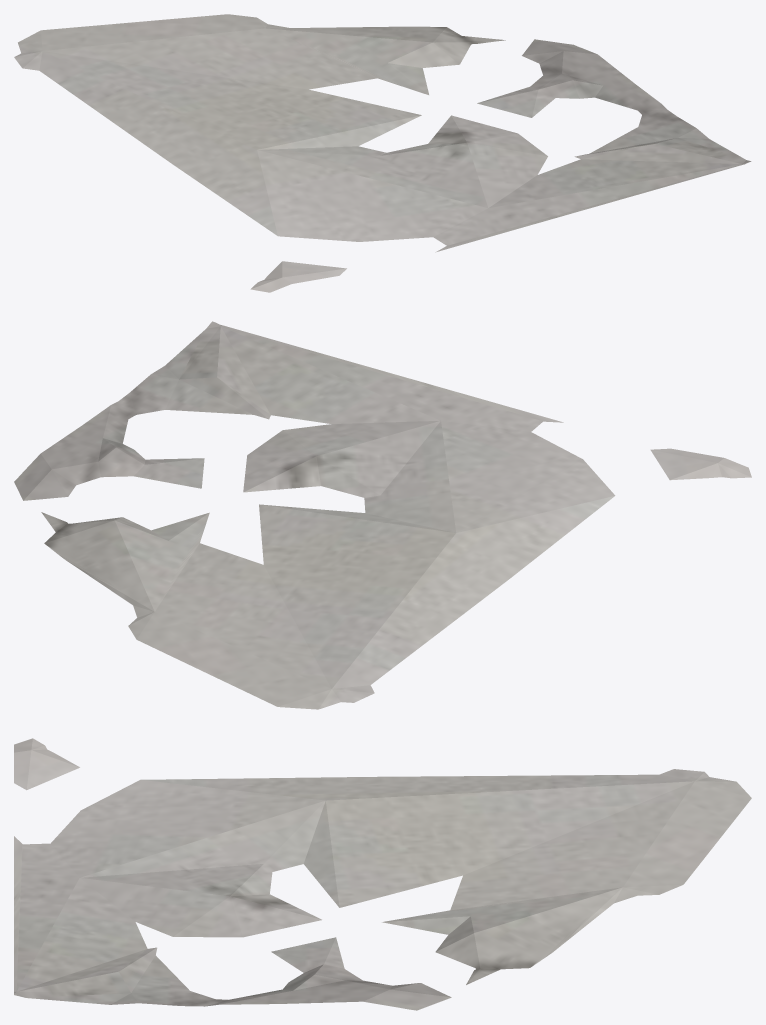
The picture shows the model from 3 angles, top to bottom: view 1: azimuth 30°, elevation 25°; view 2: azimuth 150°, elevation 25°; view 3: azimuth 270°, elevation 25°; orthographic projection. The views are drawn at different scales.
Size of the model in its own units: 1.69 by 0.045 by 1.93.
1 material, 1 textured.
